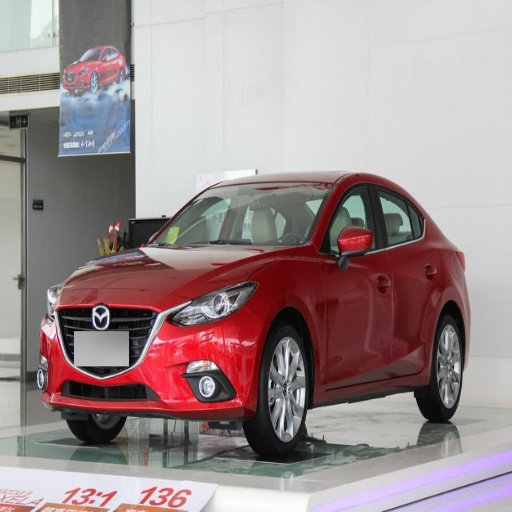back_glass: (370, 179, 439, 370)
back_right_light: (41, 289, 267, 415)
front_bumper: (155, 184, 327, 249)
front_glass: (319, 177, 393, 382)
front_left_door: (161, 281, 255, 326)
front_left_light: (100, 67, 121, 119)
front_right_light: (71, 246, 299, 309)
trunk: (246, 325, 310, 458), (418, 316, 462, 420), (66, 412, 124, 444)
